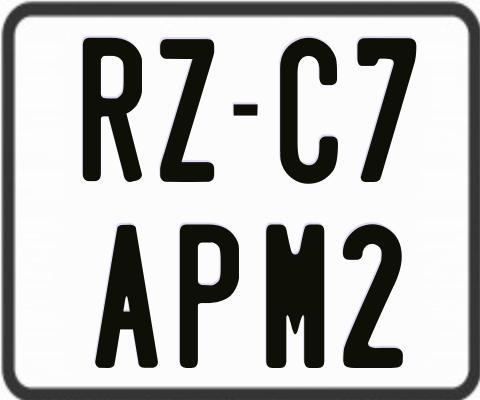2: (341, 222, 404, 370)
7: (357, 37, 417, 182)
A: (92, 224, 160, 373)
C: (278, 38, 338, 187)
M: (265, 224, 326, 370)
P: (180, 224, 242, 374)
R: (83, 37, 148, 182)
Z: (159, 38, 218, 187)
